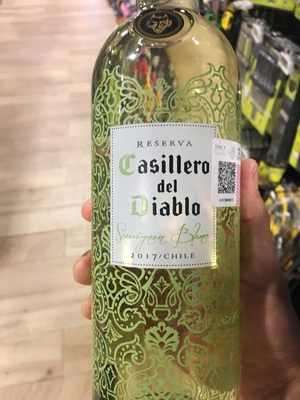casillero del diablo sauvignon blanc: (83, 6, 242, 388)
